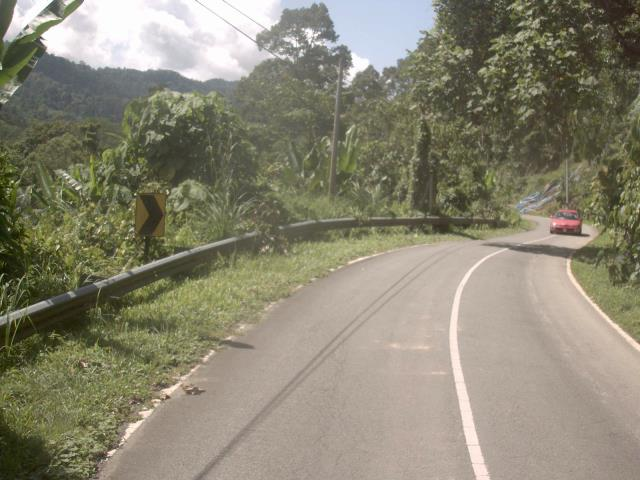traffic_sign: (127, 185, 173, 246)
